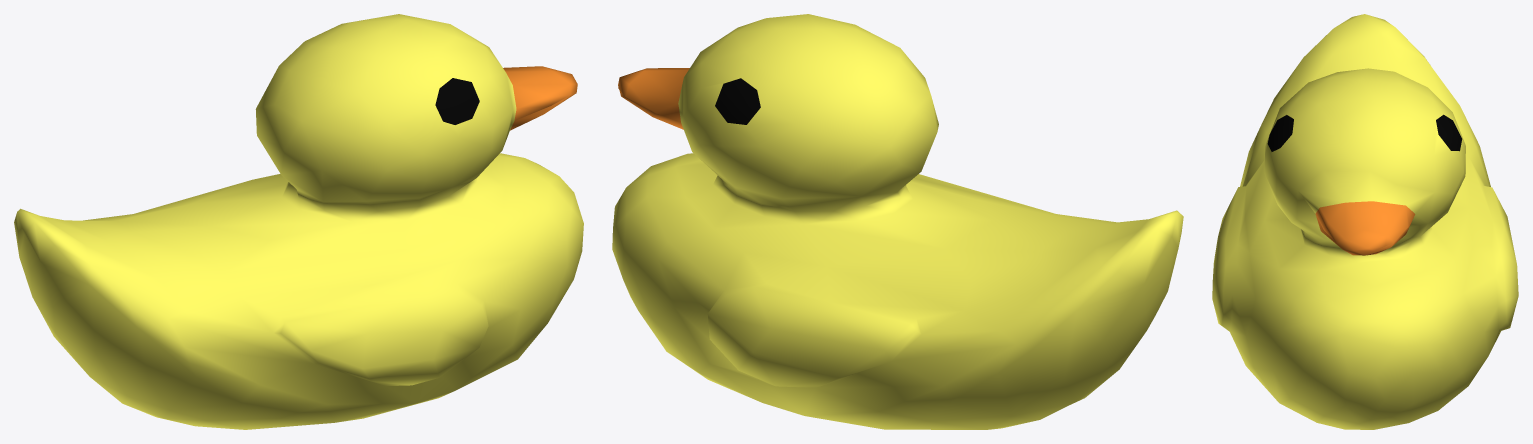
Rendered from duck.glb.
The picture shows the model from 3 angles, left to right: view 1: azimuth 30°, elevation 25°; view 2: azimuth 150°, elevation 25°; view 3: azimuth 270°, elevation 25°; orthographic projection. The views are drawn at different scales.
Visible parts, largest first — view 1: _stm_yazi; view 2: _stm_yazi; view 3: _stm_yazi.
Boxes of the visible parts, bbox=[...] form: _stm_yazi: bbox=[14, 14, 583, 429]; _stm_yazi: bbox=[612, 14, 1183, 429]; _stm_yazi: bbox=[1212, 14, 1518, 429].
Bounding box in the file's own units: 15.24 × 8.58 × 8.21.
Materials: 1 (1 with a texture image).
